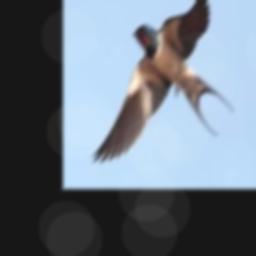Swallow: (92, 0, 233, 162)
